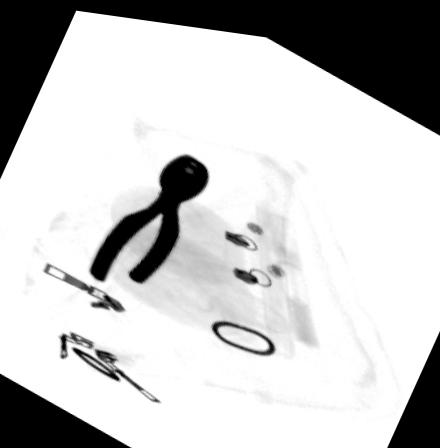Pliers: (86, 148, 210, 282)
